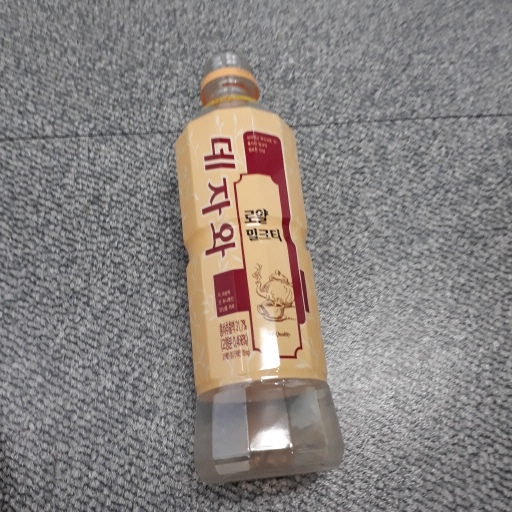Plastic_0: (170, 52, 345, 487)
